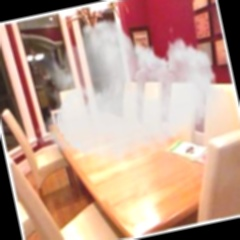smoke: (62, 45, 204, 147)
